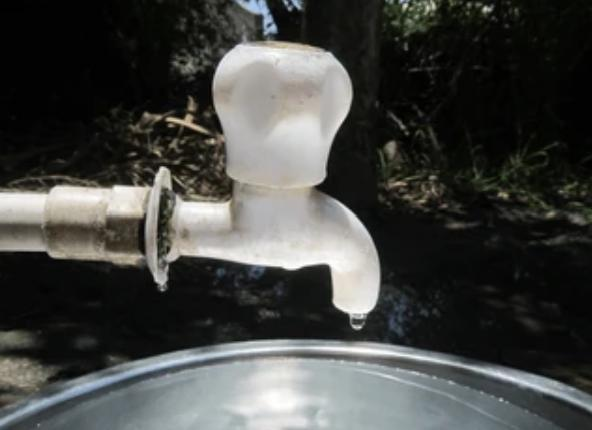water drop: (349, 312, 368, 330)
